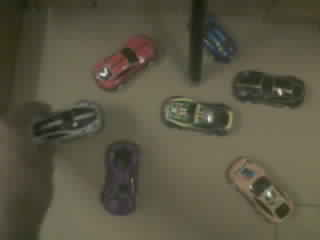Car: (228, 158, 291, 222), (34, 100, 104, 143), (96, 37, 153, 88), (102, 140, 140, 215), (161, 96, 233, 135), (232, 70, 303, 107), (203, 20, 234, 59)
